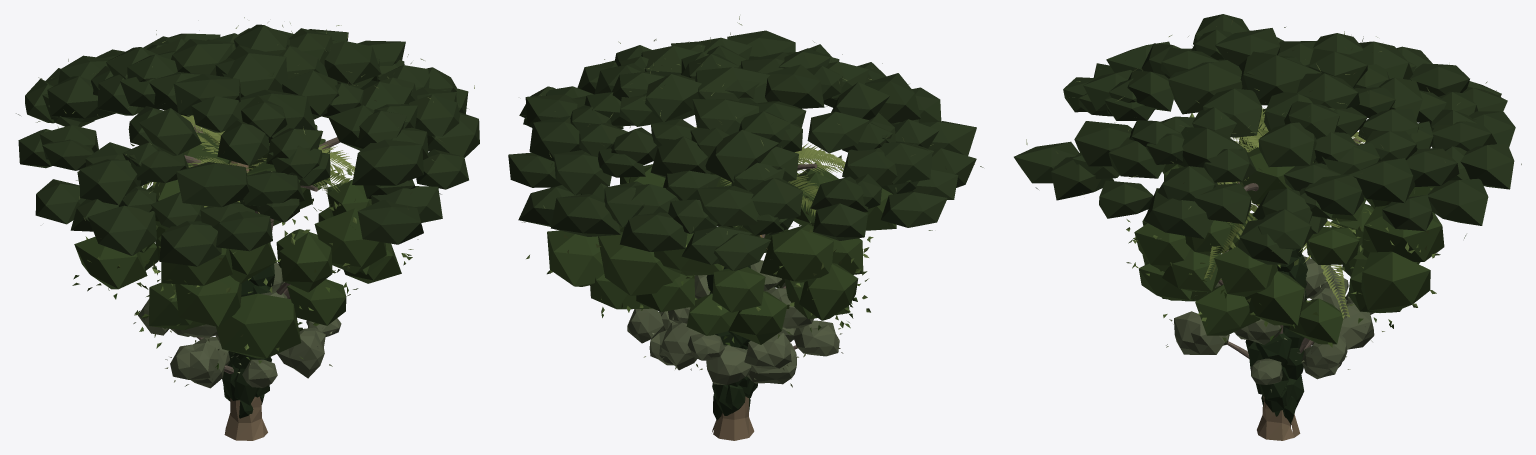
Rendered from veg_lod1.glb.
3 renders of one model, left to right at view 1: azimuth 30°, elevation 25°; view 2: azimuth 150°, elevation 25°; view 3: azimuth 270°, elevation 25°, orthographic. The views are drawn at different scales.
Parts seen in each view (by area): view 1: Veg_pine_lod1, Veg_oak_lod1, Veg_olive_lod1, Veg_palm_lod1, Veg_cypress_lod1; view 2: Veg_pine_lod1, Veg_oak_lod1, Veg_olive_lod1, Veg_palm_lod1, Veg_cypress_lod1; view 3: Veg_pine_lod1, Veg_oak_lod1, Veg_olive_lod1, Veg_cypress_lod1, Veg_palm_lod1.
Boxes of the visible parts, <box> form: Veg_pine_lod1: <box>16,17,479,266</box>; Veg_oak_lod1: <box>72,124,413,369</box>; Veg_olive_lod1: <box>133,262,341,388</box>; Veg_palm_lod1: <box>140,110,355,440</box>; Veg_cypress_lod1: <box>222,166,274,418</box>; Veg_pine_lod1: <box>508,16,983,270</box>; Veg_oak_lod1: <box>526,127,896,345</box>; Veg_olive_lod1: <box>627,260,843,387</box>; Veg_palm_lod1: <box>695,127,845,440</box>; Veg_cypress_lod1: <box>706,232,757,420</box>; Veg_pine_lod1: <box>1014,14,1521,427</box>; Veg_oak_lod1: <box>1126,108,1444,424</box>; Veg_olive_lod1: <box>1166,256,1384,392</box>; Veg_cypress_lod1: <box>1245,248,1307,423</box>; Veg_palm_lod1: <box>1204,107,1365,440</box>.
Size of the model in its own units: 13.71 by 11.65 by 13.8.
